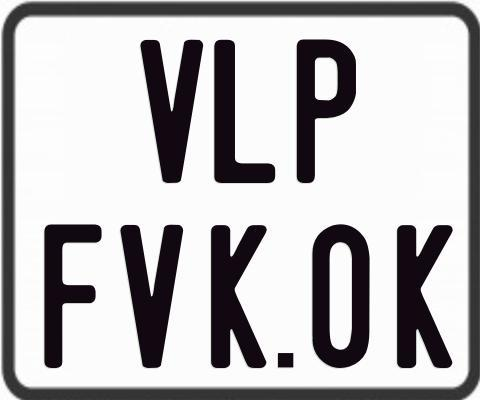0: (310, 221, 369, 371)
F: (43, 223, 102, 369)
K: (396, 224, 458, 372), (209, 223, 266, 369)
L: (214, 39, 281, 183)
P: (295, 37, 357, 184)
V: (137, 37, 206, 185), (117, 224, 185, 368)
